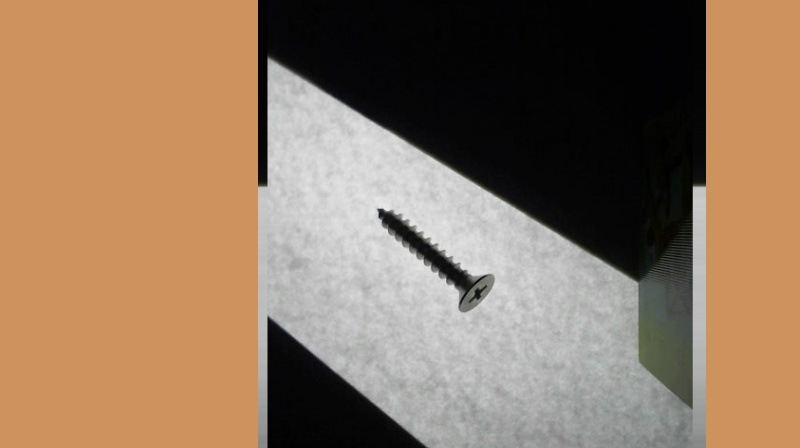S001: (376, 206, 499, 315)
